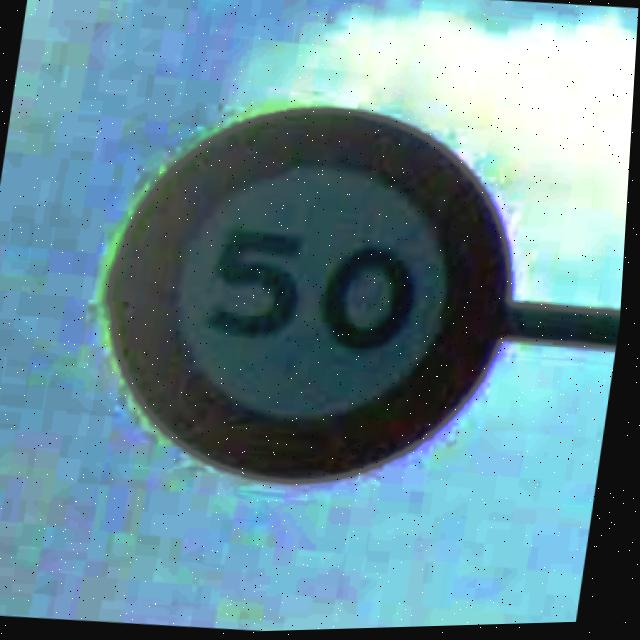max50: (81, 83, 541, 506)
